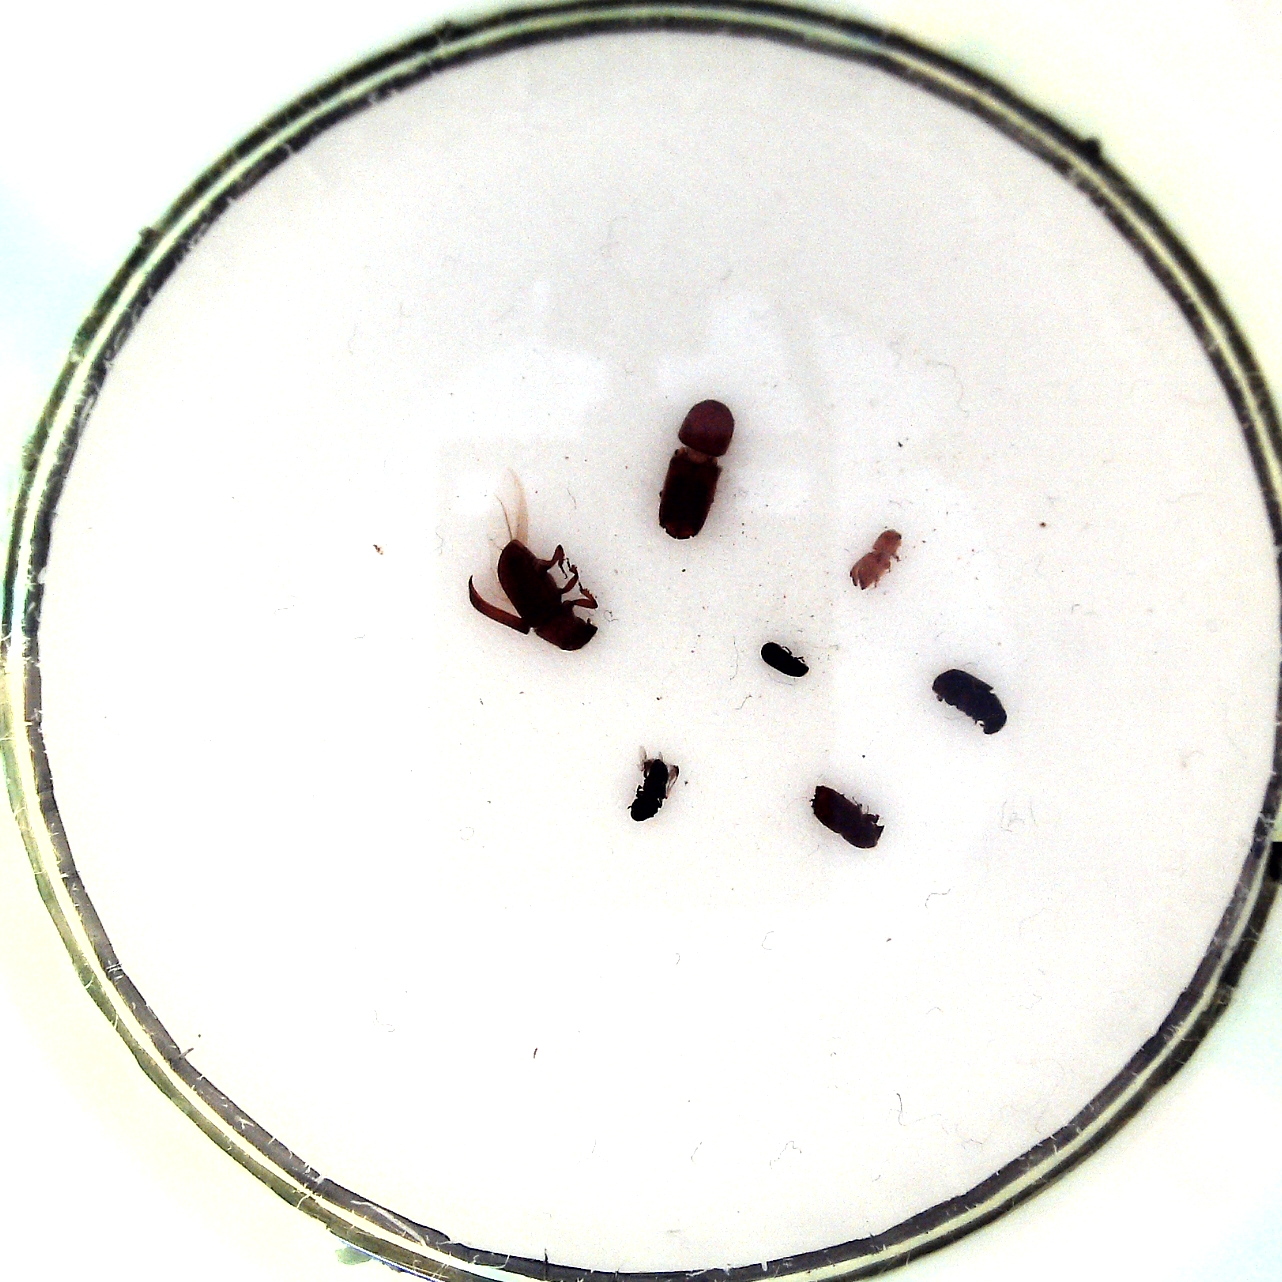Boerner: (650, 392, 742, 544)
Leconte: (457, 461, 609, 657)
Linnaeus: (807, 774, 889, 853)
acuminatus: (846, 526, 907, 592)
armandi: (924, 666, 1016, 738)
coleoptera: (627, 743, 681, 826), (753, 636, 816, 680)
